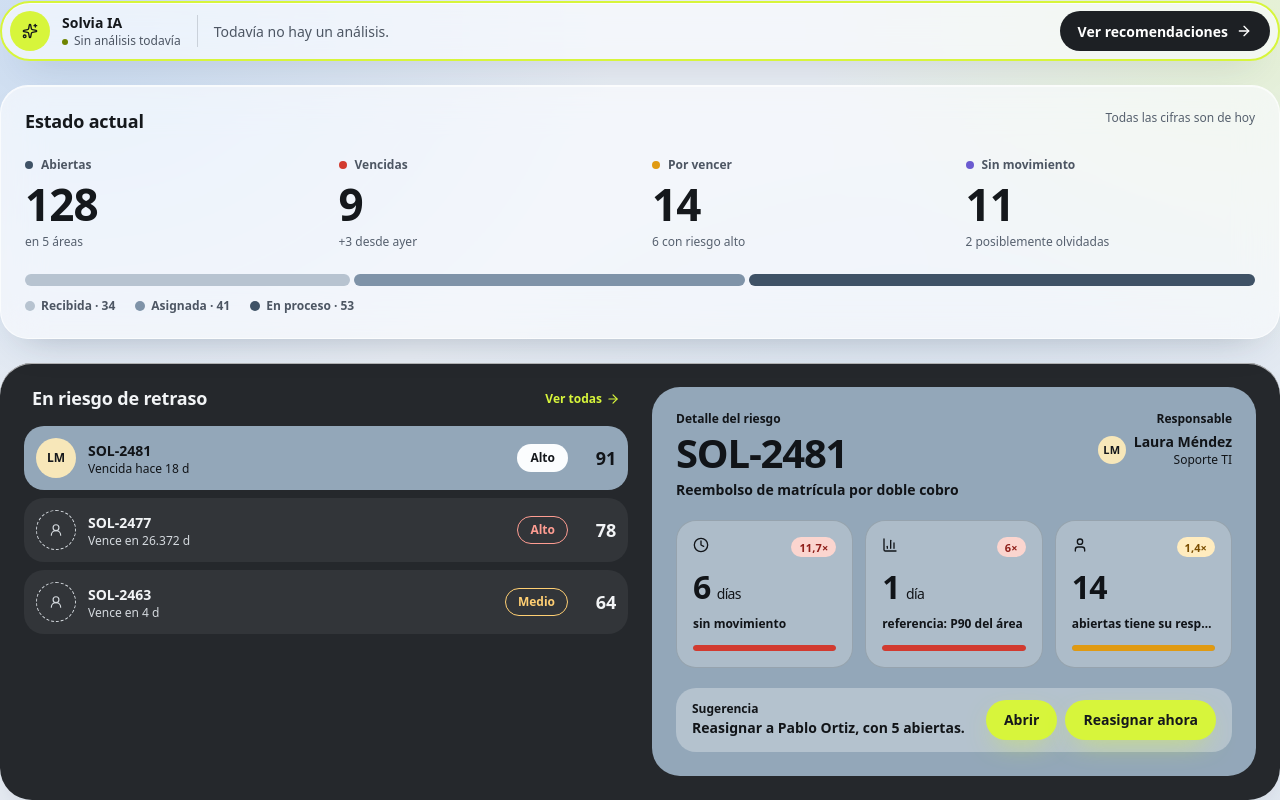
panel › reasigna con la sugerencia después de confirmar
(page scrolled)
Click the button "Reasignar ahora".
click(1141, 720)  # box [1065,700,1216,740]
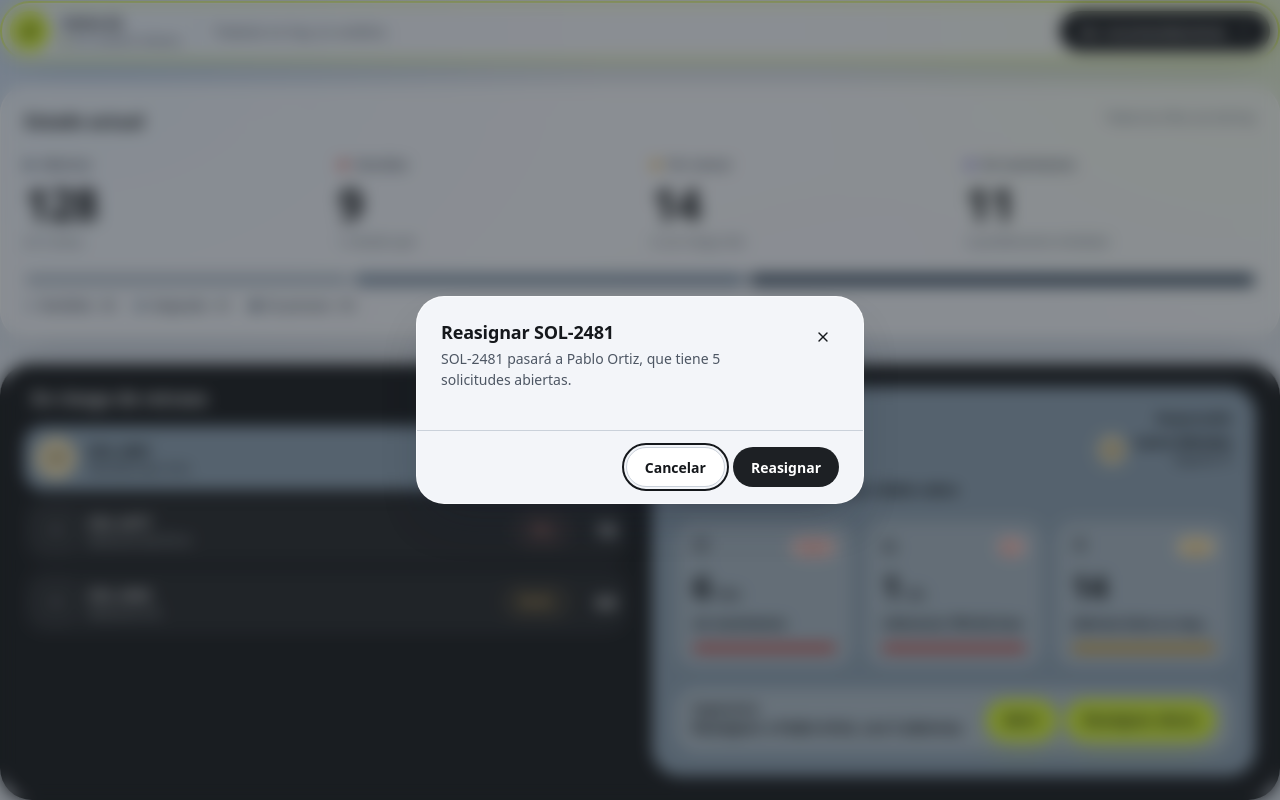
Click the button "Reasignar".
click(786, 467)  # box [733,447,839,487]
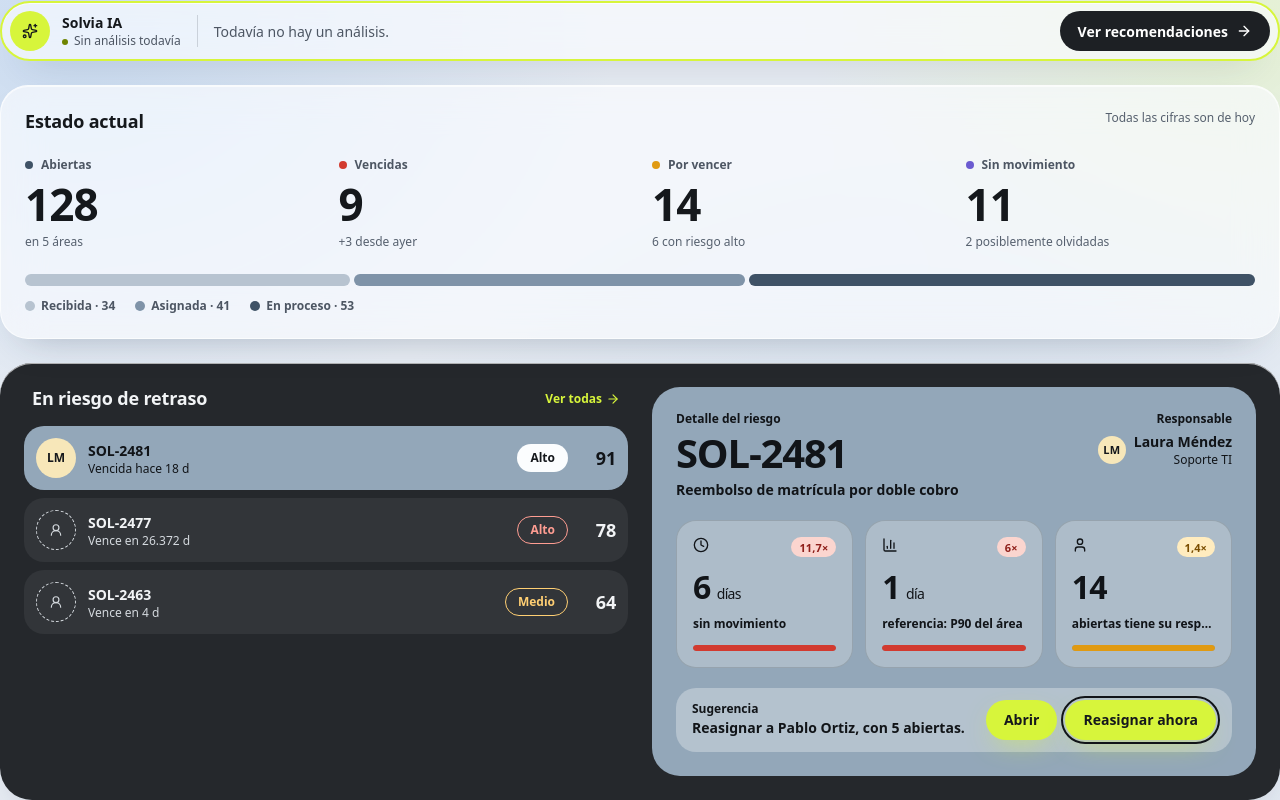
Now the dialog is gone
